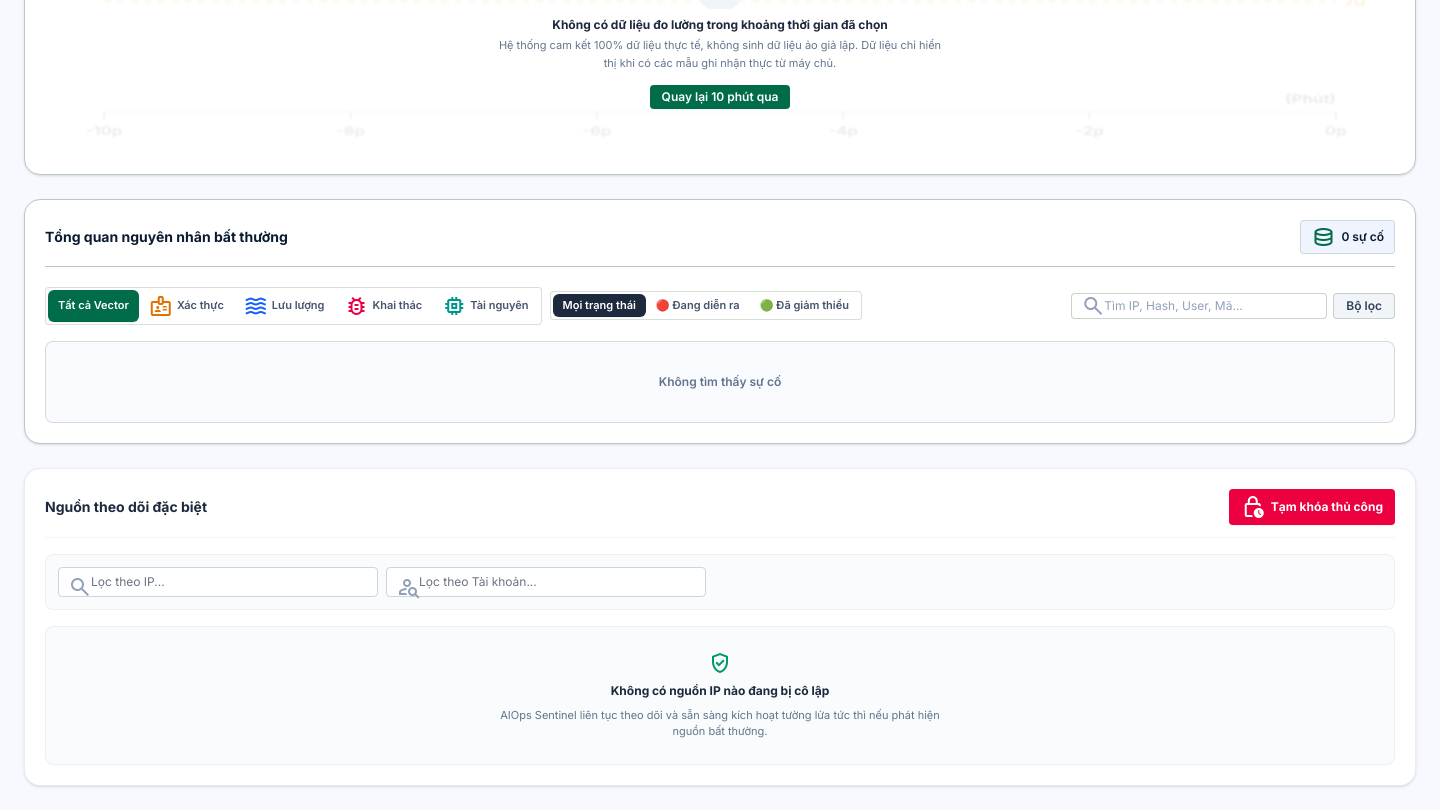
Task 7: 2-Tier Testing Architecture - AIOps Quarantine & Export CSV › Tier 1: UI Rendering & Interaction Verification › 1.3. AIOpsPage: Chuyển đổi giữa chế độ tạm khóa IP và tạm khóa Tài khoản trong Modal
(page scrolled)
Click the button "Tạm khóa thủ công". click: (1312, 507)
box: [1229, 489, 1395, 525]
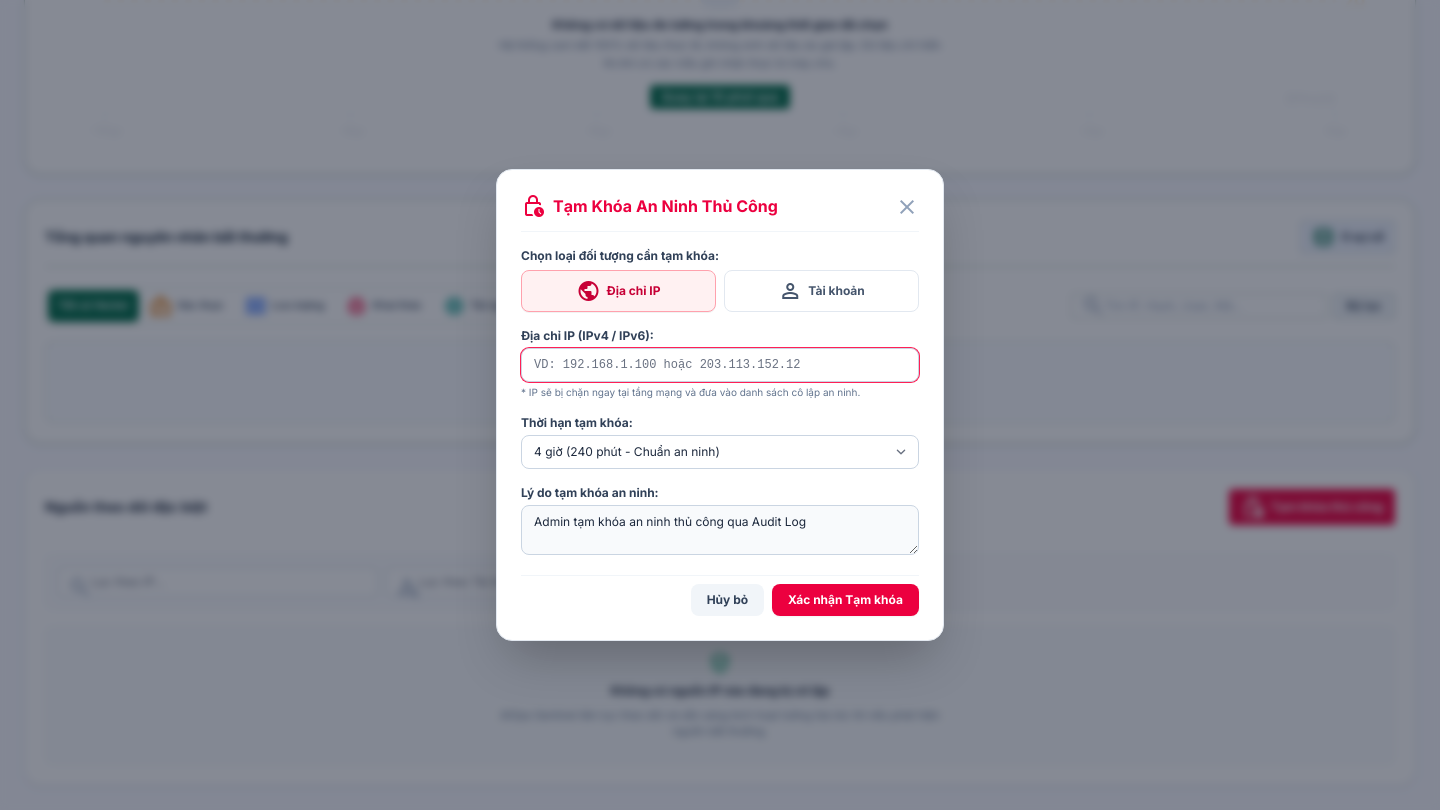
Expected: the field with test id "manual-quarantine-ip-input" is shown, [521, 348, 919, 382]
// Click chuyển sang "Tài khoản"
Click the button "Tài khoản". click: (822, 291)
box: [724, 270, 919, 312]
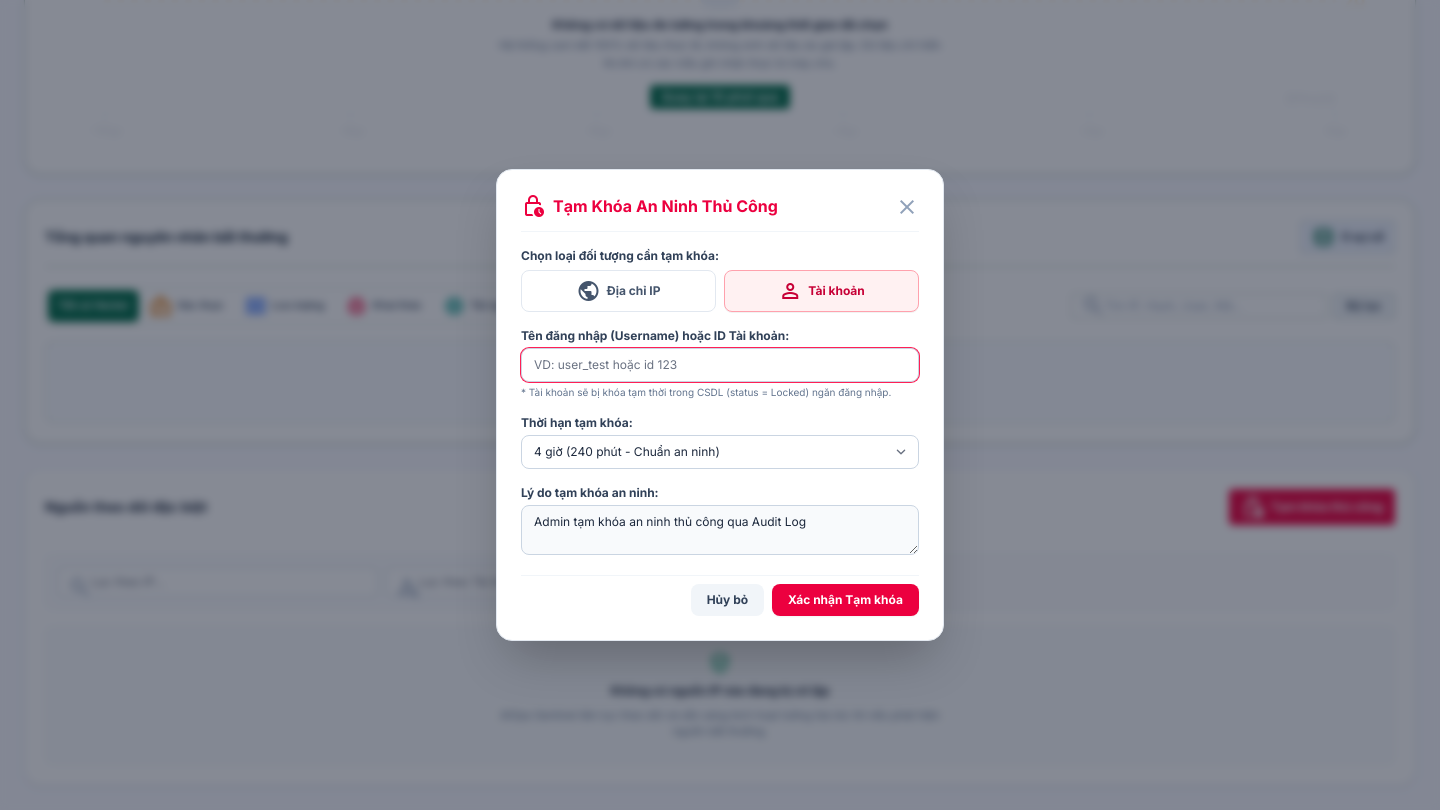
Expected: the field with test id "manual-quarantine-account-input" is shown, [521, 348, 919, 382]
